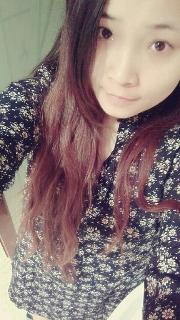long sleeve dress: (0, 60, 180, 320)
